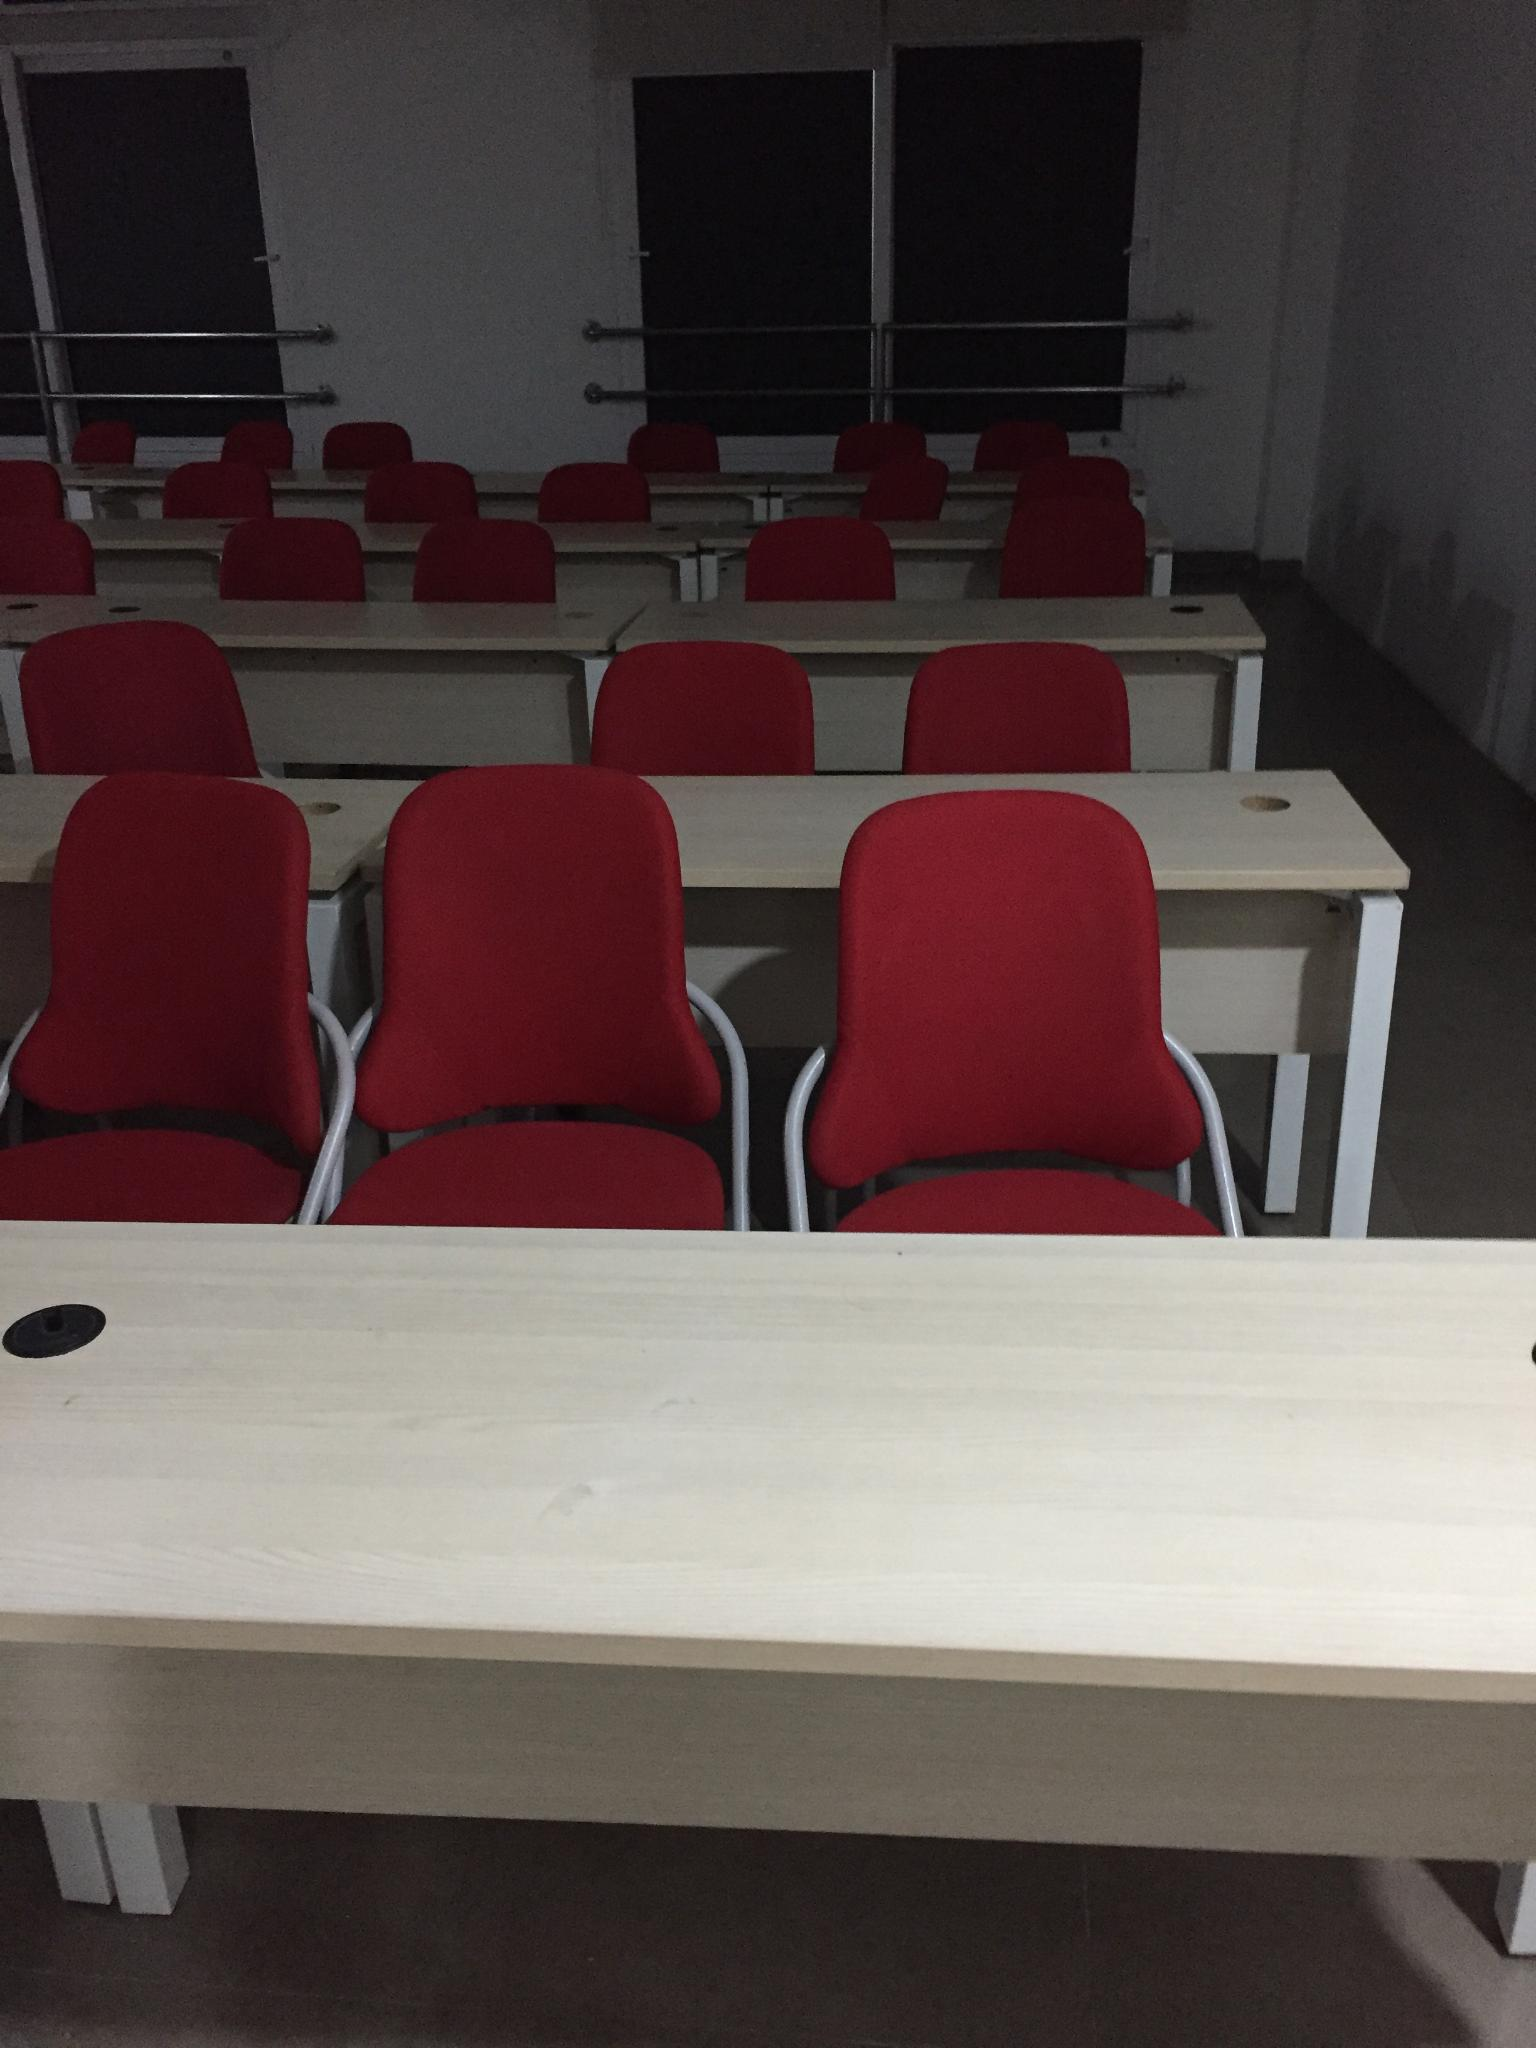chair: (783, 789, 1242, 1234), (328, 763, 750, 1229), (0, 771, 350, 1224), (18, 618, 265, 777), (589, 639, 815, 776), (902, 640, 1133, 774), (997, 495, 1150, 598), (744, 516, 897, 601), (218, 516, 366, 601), (411, 519, 557, 603), (0, 519, 97, 595), (361, 460, 478, 522), (160, 460, 274, 519), (1012, 455, 1133, 511), (541, 464, 663, 514), (860, 455, 949, 519), (833, 421, 928, 474), (973, 419, 1070, 471), (323, 419, 413, 472), (624, 431, 715, 477), (219, 419, 294, 472), (0, 460, 65, 519), (71, 419, 137, 464)
